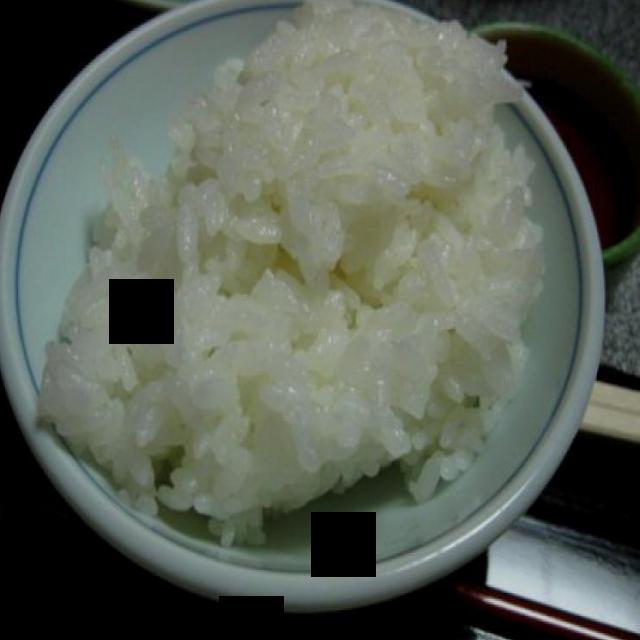rice: (32, 0, 543, 549)
